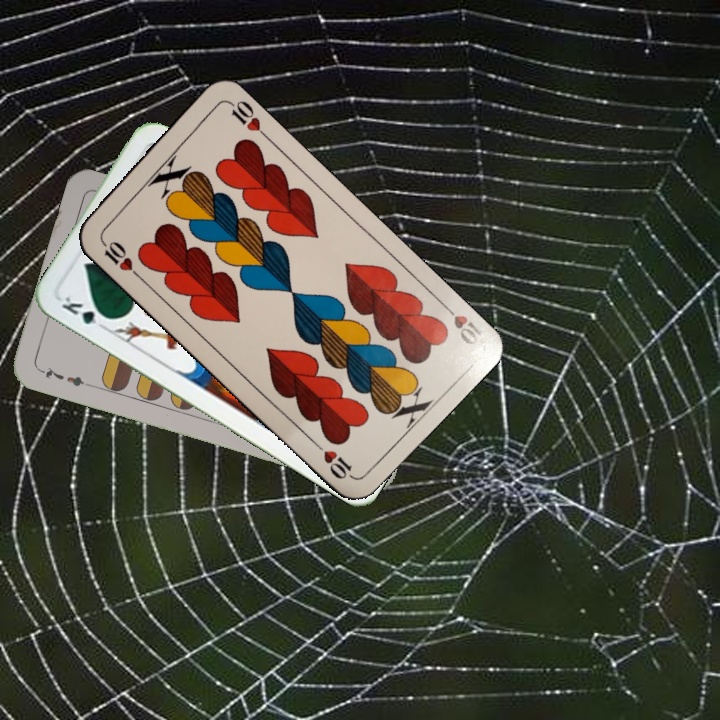E7: (35, 362, 93, 389)
GK: (57, 292, 113, 333)
H10: (437, 298, 487, 348), (96, 234, 143, 280)
